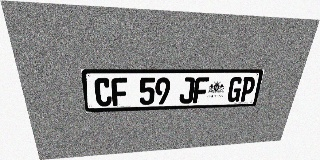5: (140, 77, 155, 105)
9: (155, 77, 171, 105)
C: (94, 78, 112, 107)
F: (111, 78, 128, 106), (193, 77, 209, 103)
G: (226, 77, 244, 102)
J: (179, 77, 195, 104)
P: (239, 77, 256, 102)
